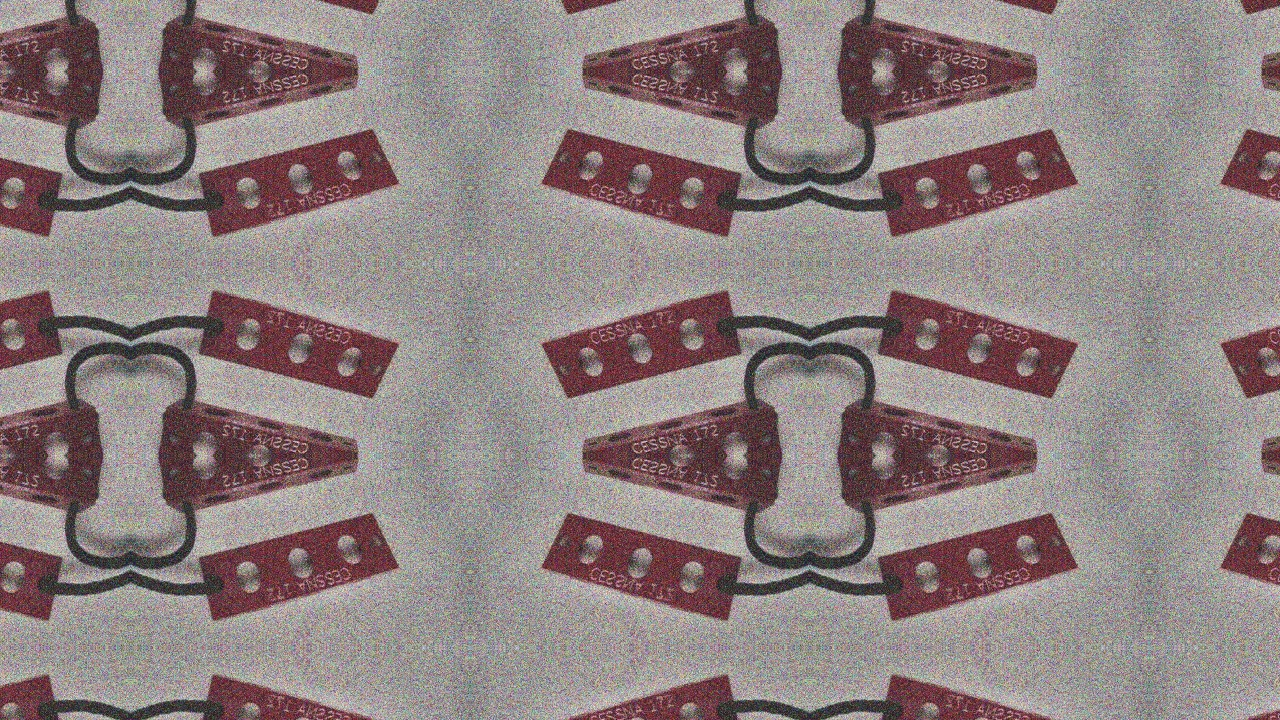chock: (185, 126, 414, 243), (526, 126, 755, 243), (865, 126, 1094, 243), (185, 284, 414, 401), (526, 284, 755, 401), (865, 284, 1094, 401), (185, 511, 414, 628), (526, 511, 755, 628), (865, 511, 1094, 628), (140, 7, 375, 71), (565, 7, 800, 71), (820, 7, 1055, 71), (140, 71, 375, 135), (565, 71, 800, 135), (820, 71, 1055, 135), (140, 392, 375, 456), (565, 392, 800, 456), (820, 392, 1055, 456), (140, 456, 375, 520), (565, 456, 800, 520), (820, 456, 1055, 520), (185, 669, 414, 720), (526, 669, 755, 720), (865, 669, 1094, 720), (0, 126, 75, 243), (0, 284, 75, 401), (0, 511, 75, 628), (1206, 126, 1280, 243), (1206, 284, 1280, 401), (1206, 511, 1280, 628), (0, 7, 120, 71), (0, 71, 120, 135), (0, 392, 120, 456), (0, 456, 120, 520), (0, 669, 75, 720), (1206, 669, 1280, 720), (185, 0, 414, 16), (526, 0, 755, 16), (865, 0, 1094, 16), (1245, 7, 1280, 71), (1245, 71, 1280, 135), (1245, 392, 1280, 456), (1245, 456, 1280, 520)
